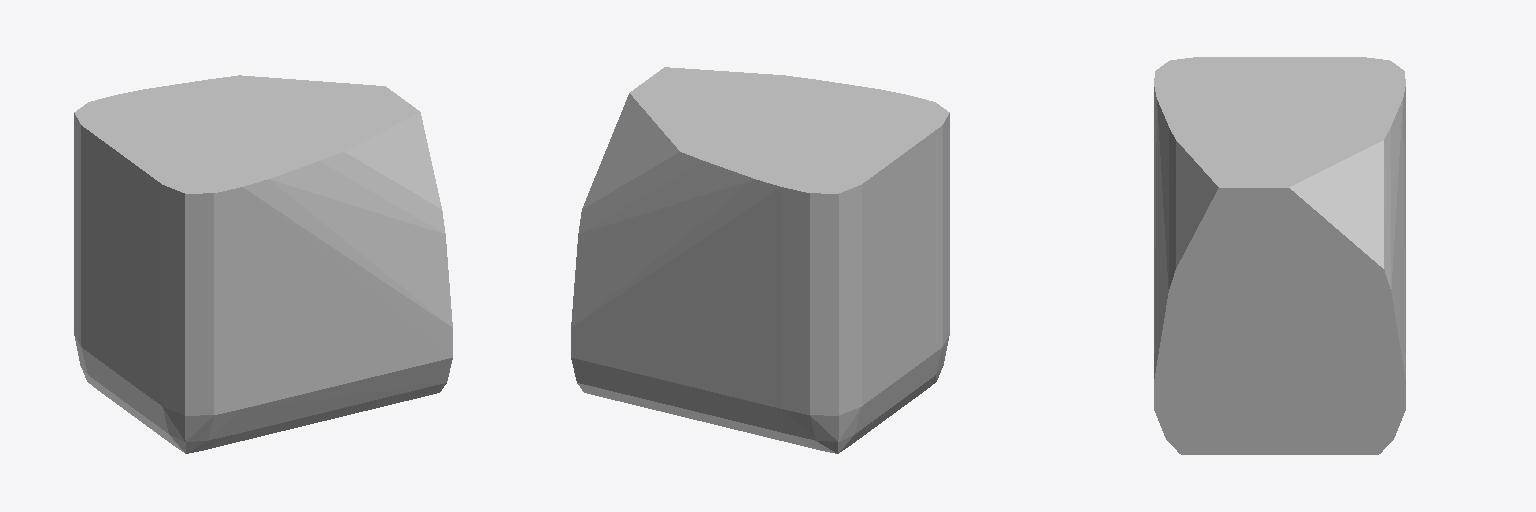
File: Window_Slider_48x36_collision_3.obj
The picture shows the model from 3 angles: view 1: azimuth 30°, elevation 25°; view 2: azimuth 150°, elevation 25°; view 3: azimuth 270°, elevation 25°; orthographic projection.
Size of the model in its own units: 0.1164 by 0.1109 by 0.0947.